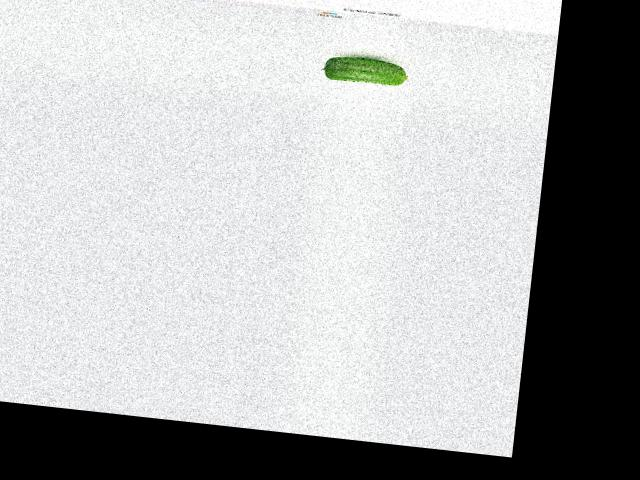cucumber: (320, 53, 410, 88)
